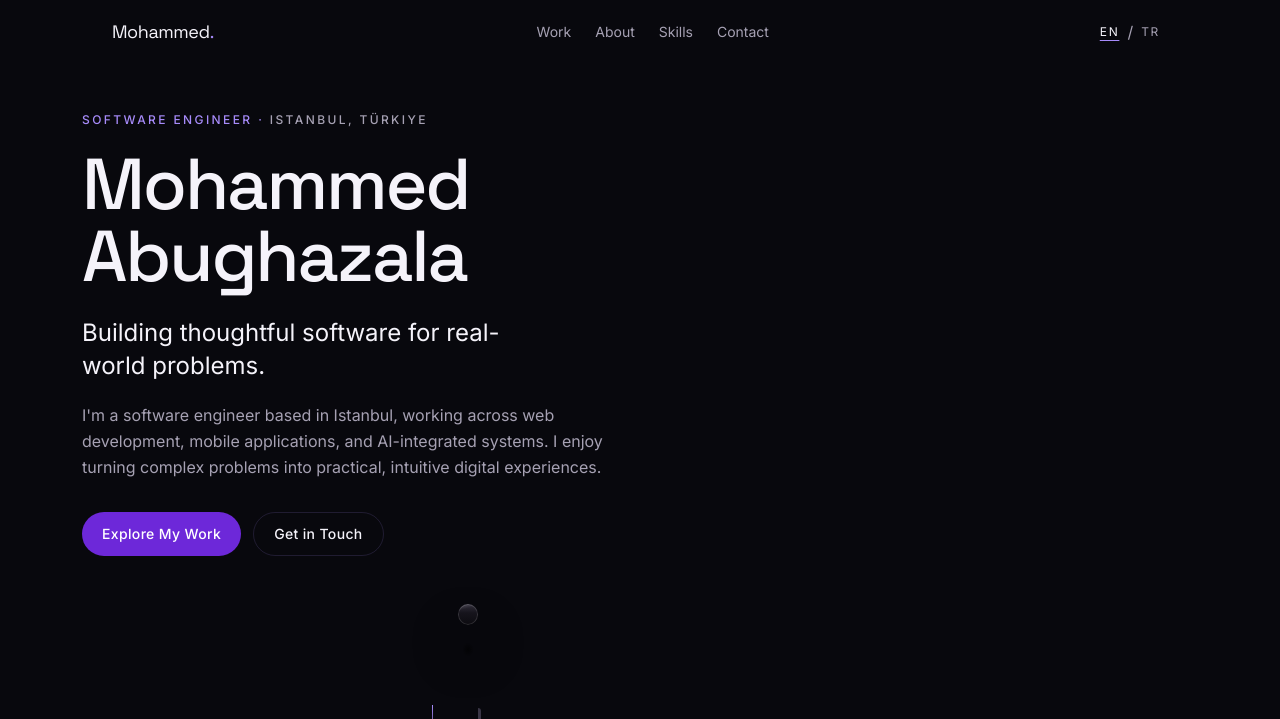
Test: portfolio page › switches to Turkish without a reload and remembers the choice
Click the button with aria-label "Türkçe": (1150, 32) [1133,10,1168,54]
(page scrolled)
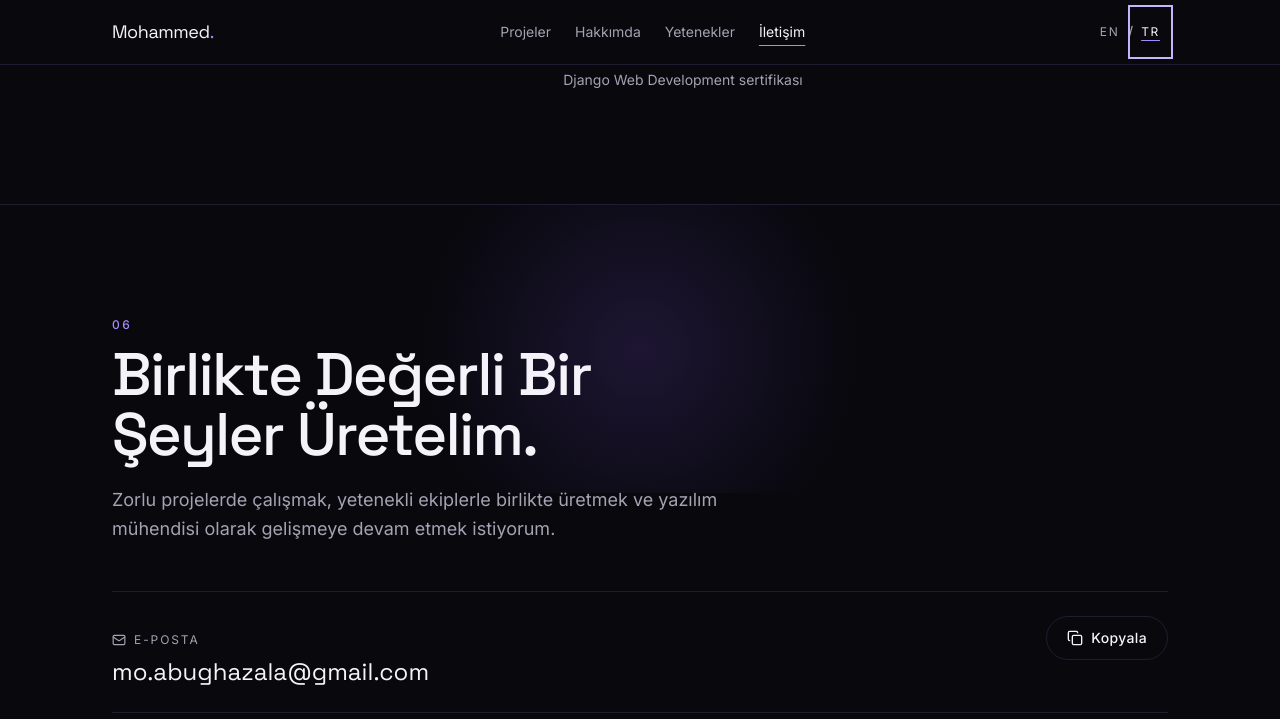
Expected: the heading "Birlikte Değerli Bir Şeyler Üretelim." is shown, [112,336,591,473]
